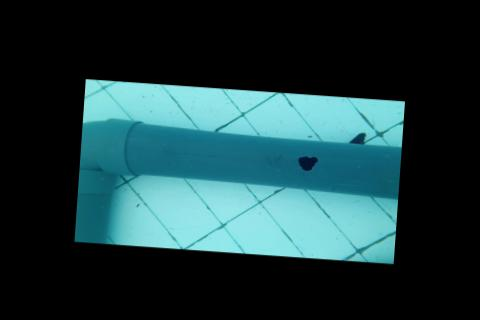kebocoran: (296, 154, 319, 171)
